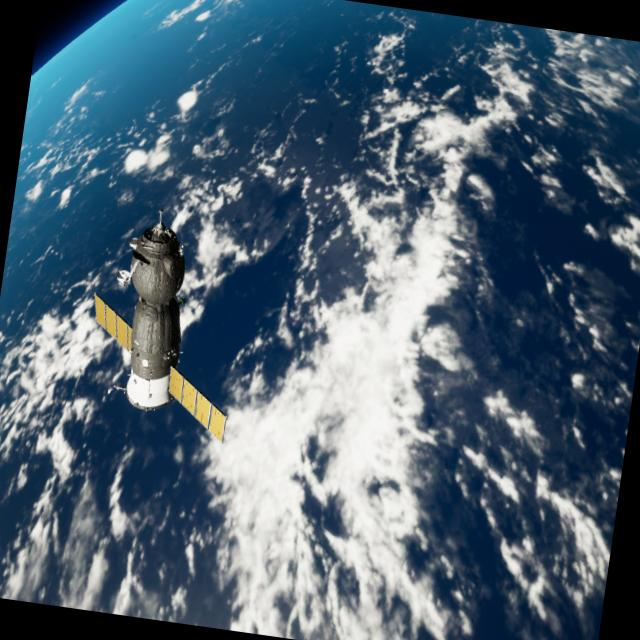Satellites revolving around earth: (73, 199, 257, 446)
